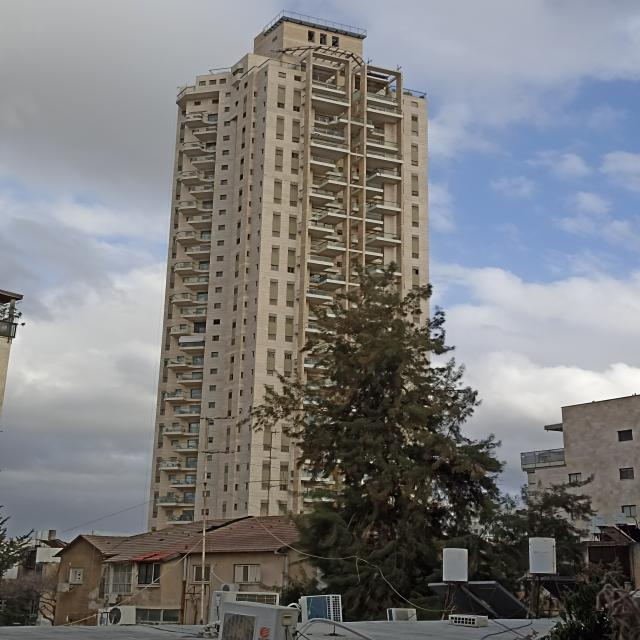Window: (235, 562, 264, 583), (136, 563, 162, 586), (191, 564, 213, 582), (616, 466, 637, 482), (620, 502, 640, 518), (614, 430, 636, 444), (67, 566, 84, 584), (567, 472, 584, 485), (306, 28, 318, 44), (318, 32, 328, 46), (230, 68, 244, 76), (264, 386, 275, 396), (262, 443, 272, 453), (274, 148, 284, 158), (280, 426, 292, 434), (292, 75, 304, 83), (276, 71, 288, 79), (267, 333, 277, 342), (286, 282, 296, 291), (274, 164, 284, 173), (292, 105, 302, 114), (332, 36, 339, 48), (276, 117, 285, 126), (202, 490, 212, 498), (181, 260, 191, 268), (260, 482, 270, 490), (260, 502, 270, 510), (280, 444, 290, 452), (264, 424, 272, 434), (266, 350, 274, 360), (268, 298, 278, 306), (271, 230, 281, 238), (272, 197, 282, 205), (290, 168, 300, 176), (276, 86, 286, 94), (410, 236, 420, 244), (261, 464, 272, 471), (217, 239, 226, 247), (213, 302, 222, 310), (285, 336, 294, 344), (274, 181, 283, 189), (292, 120, 301, 128), (202, 472, 212, 479), (210, 335, 220, 342), (180, 292, 190, 299), (278, 503, 288, 510), (215, 286, 223, 294), (170, 438, 178, 446), (210, 368, 218, 376), (213, 318, 221, 326), (174, 194, 182, 202), (280, 464, 288, 472), (266, 369, 274, 377), (268, 315, 276, 323), (286, 300, 294, 308), (287, 266, 295, 274), (290, 184, 298, 192), (292, 152, 300, 160), (292, 136, 300, 144), (411, 220, 419, 228), (412, 284, 420, 292), (412, 316, 420, 324), (218, 209, 227, 216), (165, 509, 174, 516), (201, 508, 210, 515), (271, 264, 280, 271), (410, 101, 419, 108), (171, 422, 181, 428), (208, 385, 218, 391), (174, 388, 184, 394), (174, 372, 184, 378), (179, 308, 189, 314), (188, 172, 198, 178), (287, 250, 297, 256), (410, 206, 420, 212), (220, 193, 228, 200), (218, 224, 225, 232), (216, 270, 223, 278), (207, 418, 214, 426), (230, 338, 237, 346), (162, 376, 169, 384), (165, 329, 173, 336), (164, 344, 172, 351), (176, 166, 184, 173), (184, 246, 192, 253), (270, 282, 278, 289), (288, 233, 296, 240), (290, 201, 298, 208), (277, 102, 285, 109), (294, 90, 302, 97), (411, 130, 419, 137), (411, 144, 418, 152), (411, 190, 419, 197), (412, 252, 420, 259), (198, 80, 207, 86), (235, 237, 241, 246), (242, 96, 248, 105), (250, 349, 256, 358), (222, 484, 228, 493), (207, 402, 216, 408), (211, 352, 220, 358), (185, 231, 194, 237), (272, 248, 281, 254), (275, 134, 284, 140), (271, 36, 280, 42), (225, 91, 232, 98), (207, 437, 214, 444), (175, 180, 182, 187), (188, 186, 195, 193), (338, 198, 345, 205), (208, 80, 216, 86), (218, 78, 226, 84), (222, 135, 230, 141), (194, 100, 202, 106), (192, 128, 200, 134), (190, 143, 198, 149), (221, 165, 229, 171), (216, 256, 224, 262), (232, 304, 238, 312), (234, 254, 240, 262), (242, 111, 248, 119), (260, 132, 266, 140), (252, 314, 258, 322), (167, 492, 175, 498), (238, 407, 244, 415), (226, 408, 232, 416), (173, 406, 181, 412), (177, 356, 185, 362), (179, 324, 187, 330), (152, 511, 158, 519), (178, 138, 186, 144), (177, 152, 185, 158), (186, 216, 194, 222), (182, 277, 190, 283), (174, 208, 180, 216), (280, 485, 288, 491), (284, 354, 292, 360), (283, 372, 291, 378), (286, 318, 294, 324), (412, 301, 420, 307), (252, 105, 257, 114), (212, 98, 218, 105), (222, 150, 229, 156), (190, 158, 197, 164), (244, 284, 250, 291), (256, 213, 262, 220), (240, 142, 246, 149), (158, 442, 164, 449), (205, 456, 212, 462), (234, 484, 240, 491), (160, 410, 167, 416), (168, 298, 175, 304), (166, 314, 173, 320), (174, 223, 180, 230), (172, 238, 178, 245), (171, 253, 178, 259), (170, 268, 177, 274), (411, 116, 418, 122), (412, 160, 418, 167), (411, 176, 418, 182), (412, 268, 419, 274), (224, 121, 232, 126), (244, 300, 248, 310), (234, 270, 239, 278), (247, 233, 252, 241), (236, 221, 241, 229), (239, 172, 244, 180), (241, 126, 246, 134), (250, 368, 254, 378), (249, 386, 254, 394), (171, 457, 179, 462), (233, 503, 238, 511), (236, 444, 241, 452), (226, 428, 231, 436), (237, 426, 242, 434), (229, 373, 234, 381), (338, 228, 343, 236), (224, 107, 230, 113), (254, 264, 260, 270), (253, 91, 259, 97), (154, 494, 160, 500), (156, 460, 162, 466), (155, 477, 161, 483), (158, 426, 164, 432), (248, 423, 252, 432), (161, 393, 167, 399), (181, 110, 187, 116), (180, 124, 186, 130), (185, 202, 194, 206), (338, 166, 344, 172), (238, 190, 243, 197), (170, 475, 177, 480), (228, 392, 233, 399), (241, 354, 246, 361), (164, 360, 169, 367), (220, 180, 228, 184), (234, 287, 238, 295), (258, 196, 262, 204), (240, 157, 244, 165), (260, 148, 264, 156), (244, 81, 248, 89), (262, 100, 266, 108), (252, 137, 256, 145), (252, 332, 256, 340), (223, 504, 227, 512), (224, 465, 228, 473), (236, 464, 240, 472), (244, 502, 248, 510), (248, 406, 252, 414), (247, 443, 251, 451), (224, 446, 228, 454), (244, 318, 248, 326), (230, 356, 234, 364), (338, 260, 342, 268), (263, 85, 268, 91), (256, 247, 260, 254), (246, 267, 250, 274), (256, 230, 260, 237), (248, 217, 252, 224), (238, 205, 242, 212), (260, 163, 264, 170), (250, 153, 254, 160), (236, 85, 240, 92), (246, 463, 250, 470), (239, 389, 243, 396), (232, 321, 236, 328), (242, 336, 246, 343), (255, 296, 258, 304), (247, 250, 250, 258), (248, 201, 252, 207), (250, 184, 253, 192), (250, 170, 254, 176), (265, 70, 268, 78), (252, 122, 256, 128), (245, 482, 248, 490), (240, 372, 244, 378), (259, 180, 262, 187), (170, 284, 174, 289), (255, 281, 258, 287), (262, 117, 265, 123)
